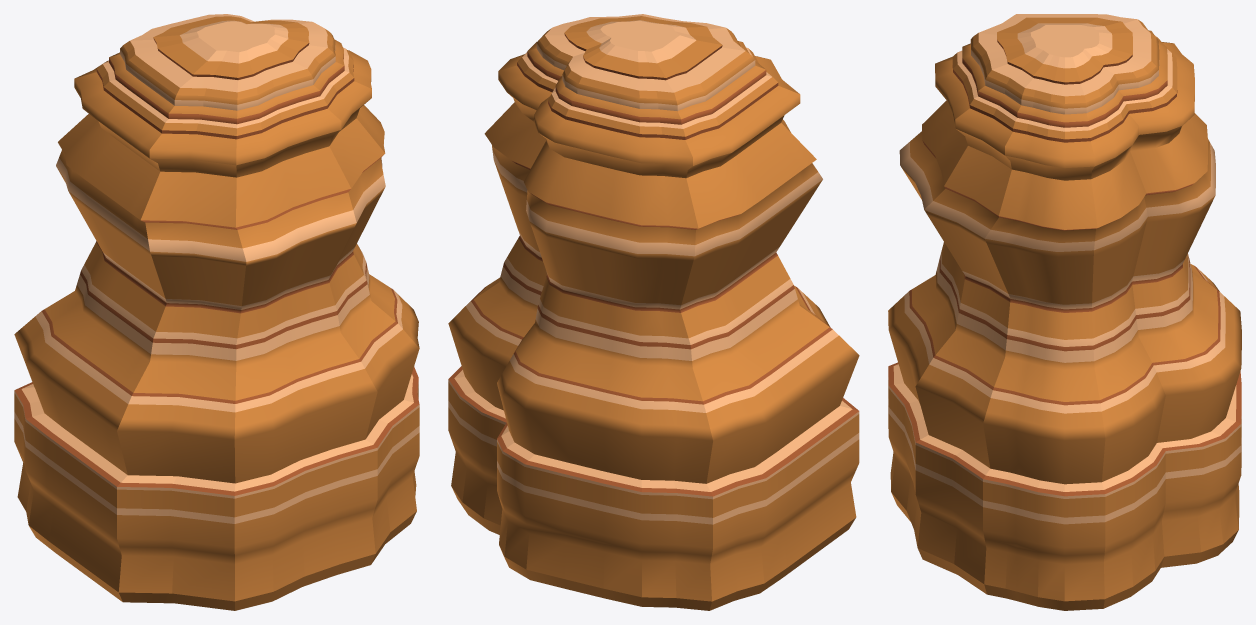
Rendered from CliffBig_2.fbx.
3 renders of one model, left to right at view 1: azimuth 30°, elevation 25°; view 2: azimuth 150°, elevation 25°; view 3: azimuth 270°, elevation 25°, orthographic.
Visible parts, largest first — view 1: pPlane2; view 2: pPlane2; view 3: pPlane2.
Boxes of the visible parts, bbox=[...] form: pPlane2: bbox=[14, 14, 419, 610]; pPlane2: bbox=[448, 14, 859, 610]; pPlane2: bbox=[888, 14, 1241, 610].
Size of the model in its own units: 16.71 by 22.64 by 14.82.
